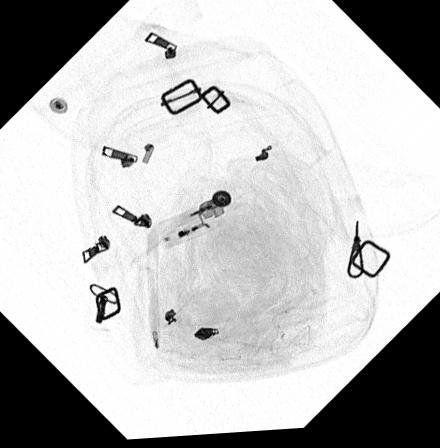Lighter: (146, 200, 226, 257)
